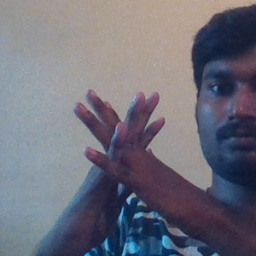W: (59, 78, 189, 233)
